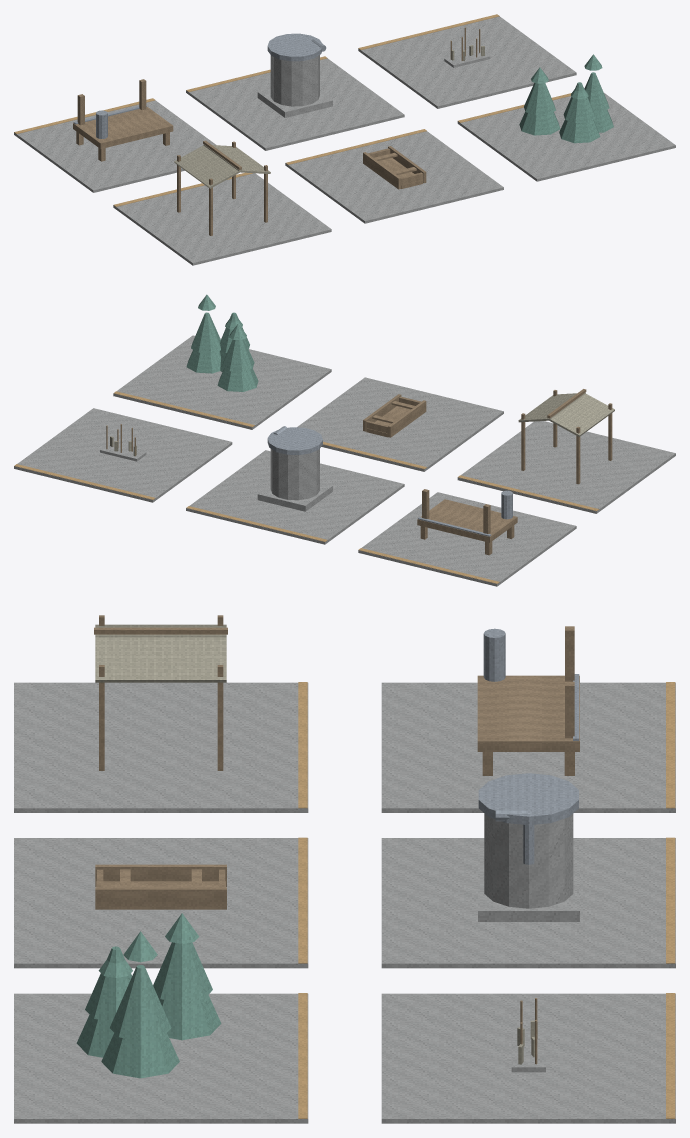
File: level_blockout_kit_wld_11_p03.glb
The picture shows the model from 3 angles, top to bottom: view 1: azimuth 30°, elevation 25°; view 2: azimuth 150°, elevation 25°; view 3: azimuth 270°, elevation 25°; orthographic projection. The views are drawn at different scales.
Parts seen in each view (by area): view 1: level_blockout_kit_wld_11_p03; view 2: level_blockout_kit_wld_11_p03; view 3: level_blockout_kit_wld_11_p03.
Part boxes in pixels (box(x1,y1,x2,y2)): level_blockout_kit_wld_11_p03: box(14, 14, 675, 265); level_blockout_kit_wld_11_p03: box(14, 294, 675, 586); level_blockout_kit_wld_11_p03: box(14, 615, 675, 1123).
Bounding box in the file's own units: 19.65 × 3.13 × 12.6.
7 materials, 7 textured.
